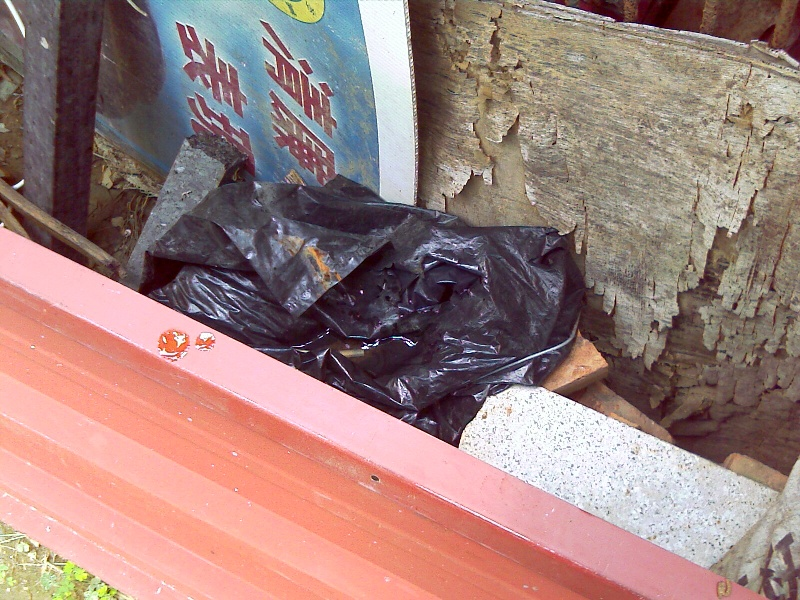plastic_bag: (138, 171, 590, 441)
